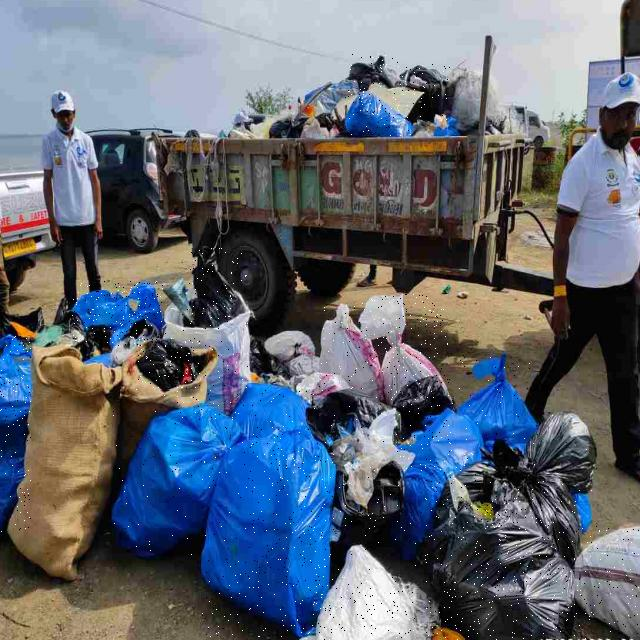plastic: (202, 426, 335, 637), (427, 481, 576, 640), (111, 405, 243, 558), (393, 410, 484, 561), (332, 464, 425, 587), (164, 303, 250, 416), (359, 295, 448, 403), (316, 547, 415, 640), (459, 354, 538, 451), (576, 527, 639, 639), (320, 304, 385, 400), (0, 336, 31, 532), (524, 412, 598, 492), (72, 282, 163, 347), (307, 389, 388, 446), (190, 248, 247, 327), (231, 383, 307, 439), (524, 556, 576, 634), (393, 376, 454, 438), (137, 340, 205, 390), (345, 91, 412, 136), (401, 64, 451, 121), (348, 54, 401, 90)
